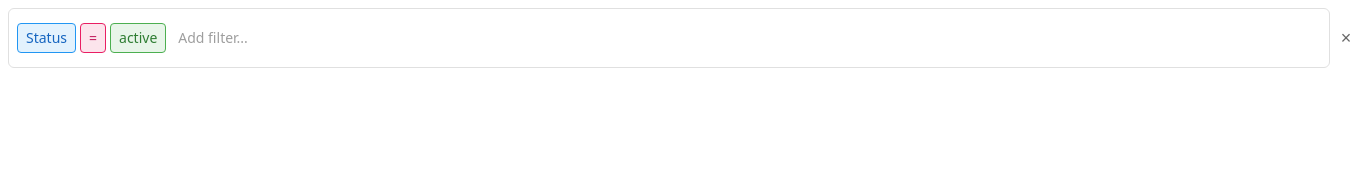
Test: Keyboard-Only Navigation Flow › pressing Escape in selecting-connector state closes dropdown without selecting
# Get input and click to focus - this should change state to selecting-connector
Click the dropdown at (222, 38), box [170,24,274,52]
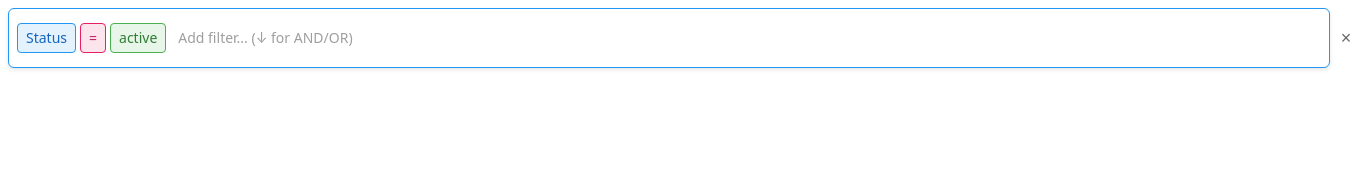
# Press ArrowDown to open the connector dropdown (first item is auto-highlighted)
Press Arrowdown
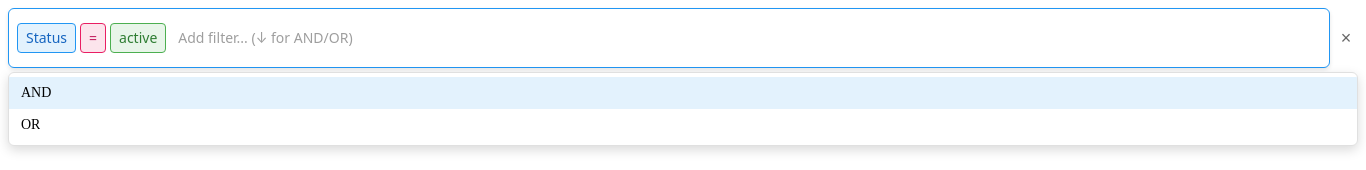
Expected: the list is shown, [8,72,1358,146]
Expected: the text "AND" is shown, [21,85,51,101]
Expected: the text "OR" is shown, [21,117,40,133]
# Press Escape to close dropdown without selecting
Press Escape
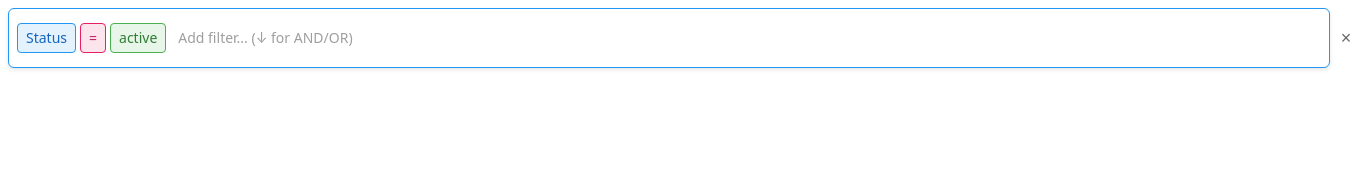
Expected: the list is gone
